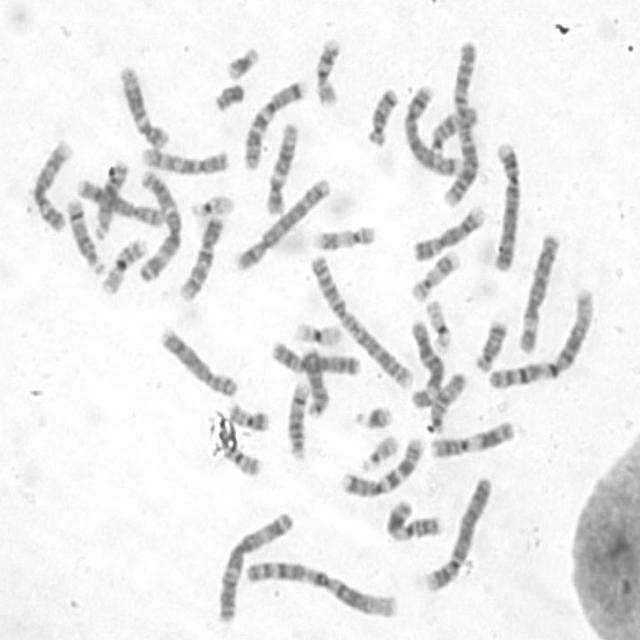A1: (488, 288, 598, 392), (247, 560, 403, 623)
A2: (309, 254, 416, 393), (440, 42, 481, 209)
A3: (214, 510, 293, 627), (136, 170, 184, 284)
B4: (422, 474, 494, 598), (492, 141, 522, 272)
B5: (234, 176, 332, 274), (402, 82, 467, 176)
C10: (174, 216, 226, 301), (140, 146, 231, 177)
C11: (427, 419, 518, 460), (384, 500, 444, 546)
C12: (118, 64, 171, 151), (264, 122, 299, 220)
C6: (518, 232, 560, 353), (410, 319, 446, 409)
C7: (241, 77, 308, 173), (340, 436, 424, 500)
C8: (160, 323, 240, 399), (74, 178, 165, 229)
C9: (30, 136, 76, 235), (411, 206, 486, 262)
D13: (92, 160, 130, 244), (300, 347, 332, 420)
D14: (64, 196, 108, 276), (285, 380, 312, 463)
D15: (424, 372, 468, 433), (430, 104, 478, 154)
E16: (99, 235, 147, 299), (313, 38, 344, 108)
E17: (410, 246, 464, 303), (314, 224, 379, 252)
E18: (364, 87, 400, 148), (472, 317, 510, 374)
F19: (292, 318, 349, 349), (426, 298, 454, 356)
F20: (224, 444, 265, 478), (227, 402, 270, 433)
G21: (223, 46, 260, 80), (353, 404, 394, 433)
G22: (356, 434, 402, 473), (188, 194, 237, 219)
X: (268, 342, 362, 379)
Y: (215, 82, 247, 112)
